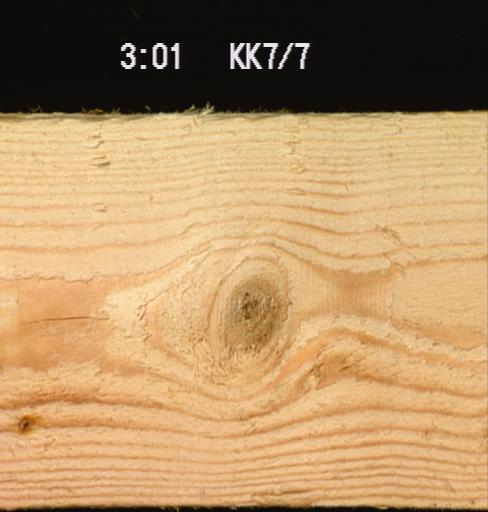sound_knot: (217, 272, 283, 350)
split: (15, 314, 110, 324)
